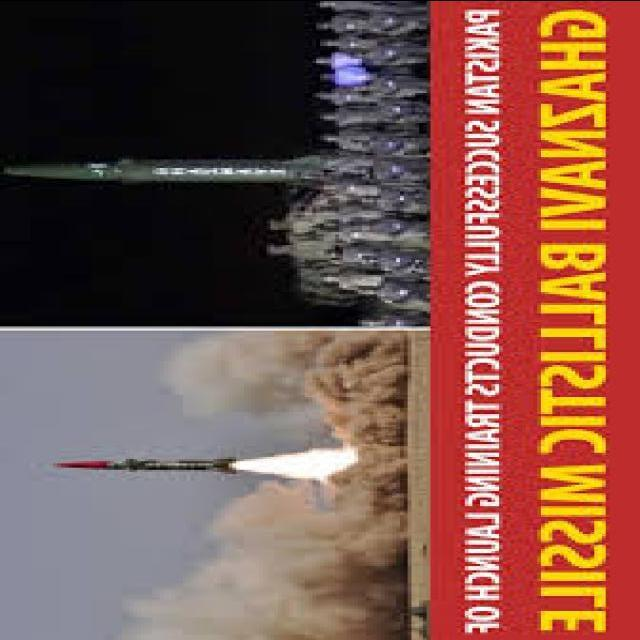missile: (0, 154, 327, 189), (49, 455, 239, 478)
